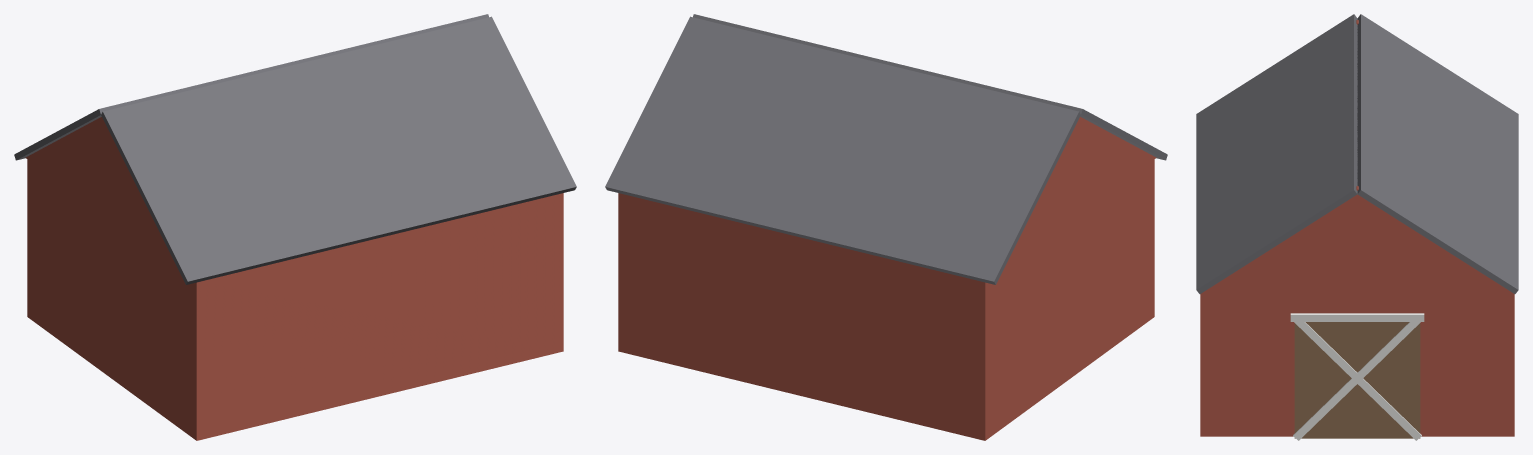
The model's file is SM_Barn.fbx.
3 views of the same model, side by side, from view 1: azimuth 30°, elevation 25°; view 2: azimuth 150°, elevation 25°; view 3: azimuth 270°, elevation 25° (orthographic). The views are drawn at different scales.
Parts seen in each view (by area): view 1: SM_Barn; view 2: SM_Barn; view 3: SM_Barn.
Part boxes in pixels (left/top/right/bottom): SM_Barn: left=14, top=14, right=576, bottom=440; SM_Barn: left=605, top=14, right=1167, bottom=440; SM_Barn: left=1196, top=14, right=1518, bottom=440.
Bounding box in the file's own units: 1060 × 712 × 820.
